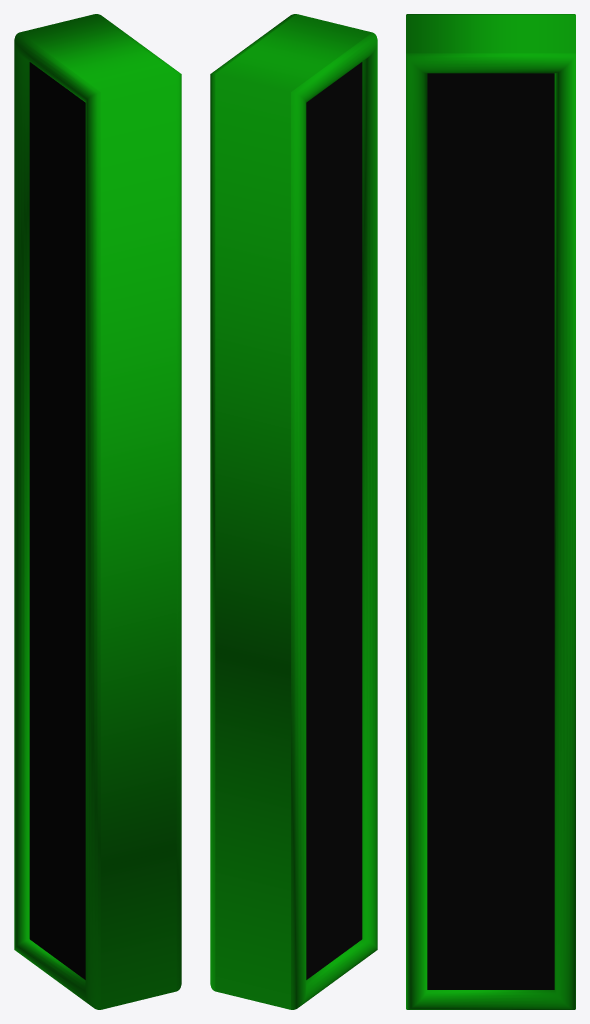
3 renders of one model, left to right at view 1: azimuth 30°, elevation 25°; view 2: azimuth 150°, elevation 25°; view 3: azimuth 270°, elevation 25°, orthographic. The views are drawn at different scales.
Visible parts, largest first — view 1: I; view 2: I; view 3: I.
Boxes of the visible parts, x1,y1,x2,y2 form: I: [14, 14, 181, 1009]; I: [210, 14, 377, 1009]; I: [406, 14, 575, 1009].
Size of the model in its own units: 7.4 by 69.6 by 11.2.
